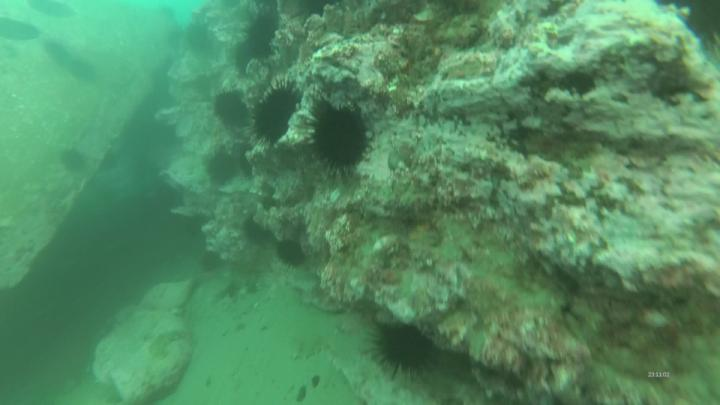echinus: (303, 91, 373, 187), (247, 77, 306, 147), (367, 322, 436, 378), (201, 147, 246, 191), (238, 9, 285, 51), (211, 86, 255, 127), (270, 235, 310, 273)
